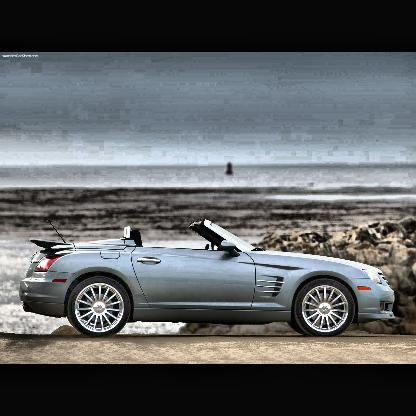Chrysler Crossfire Convertible 2008: (19, 221, 397, 340)
